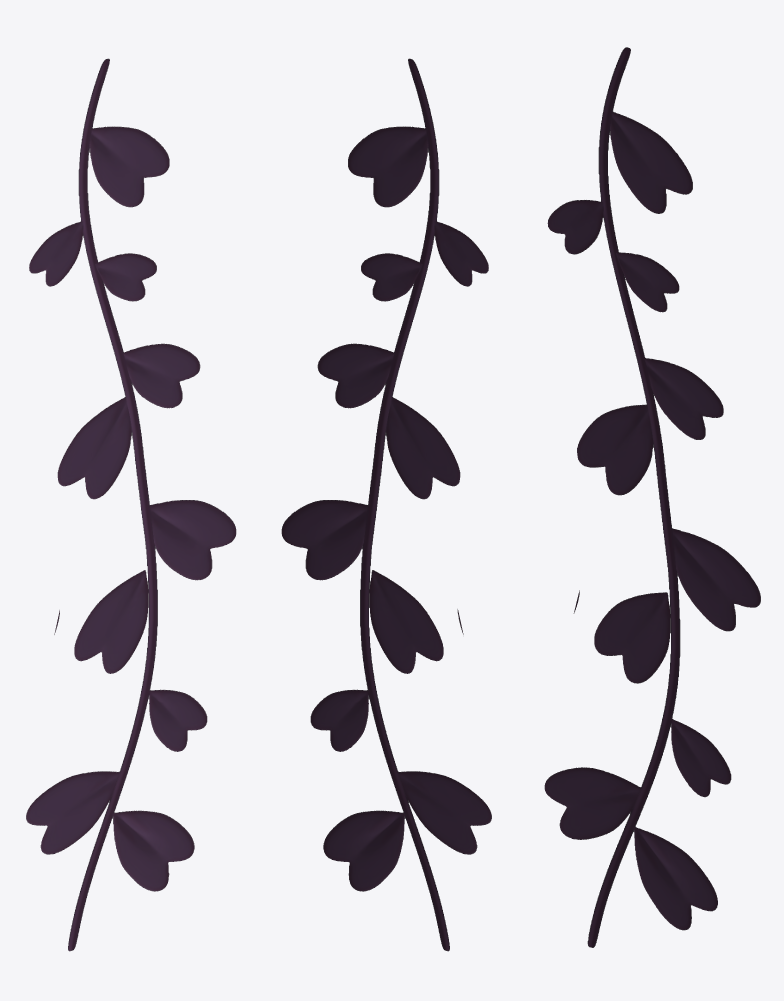
Rendered from prop_vine_01.fbx.
3 views of the same model, side by side, from view 1: azimuth 30°, elevation 25°; view 2: azimuth 150°, elevation 25°; view 3: azimuth 330°, elevation 25° (orthographic). The views are drawn at different scales.
Parts seen in each view (by area): view 1: prop_vine_01; view 2: prop_vine_01; view 3: prop_vine_01.
Boxes of the visible parts, <box> form: prop_vine_01: <box>26,58,236,951</box>; prop_vine_01: <box>281,58,491,951</box>; prop_vine_01: <box>544,47,760,947</box>.
Bounding box in the file's own units: 128 × 490 × 0.4123.
Materials: 1 (1 with a texture image).
